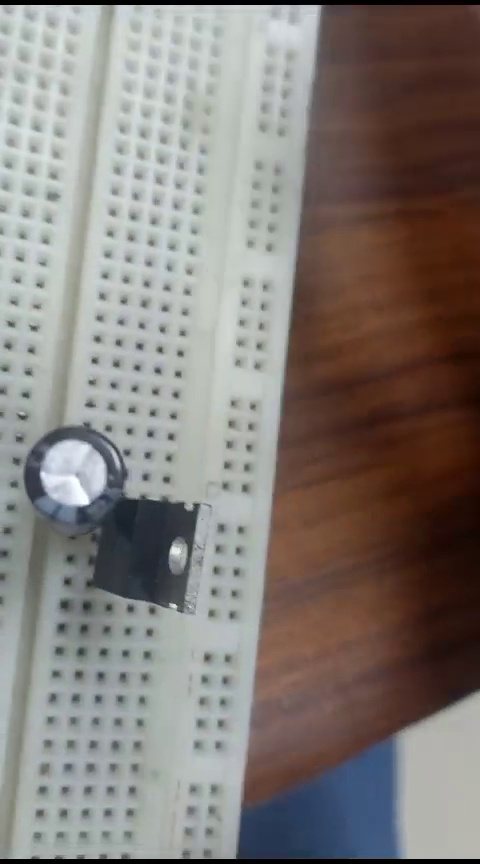capacitor: (20, 423, 128, 532)
voltage regulator: (108, 485, 219, 619)
